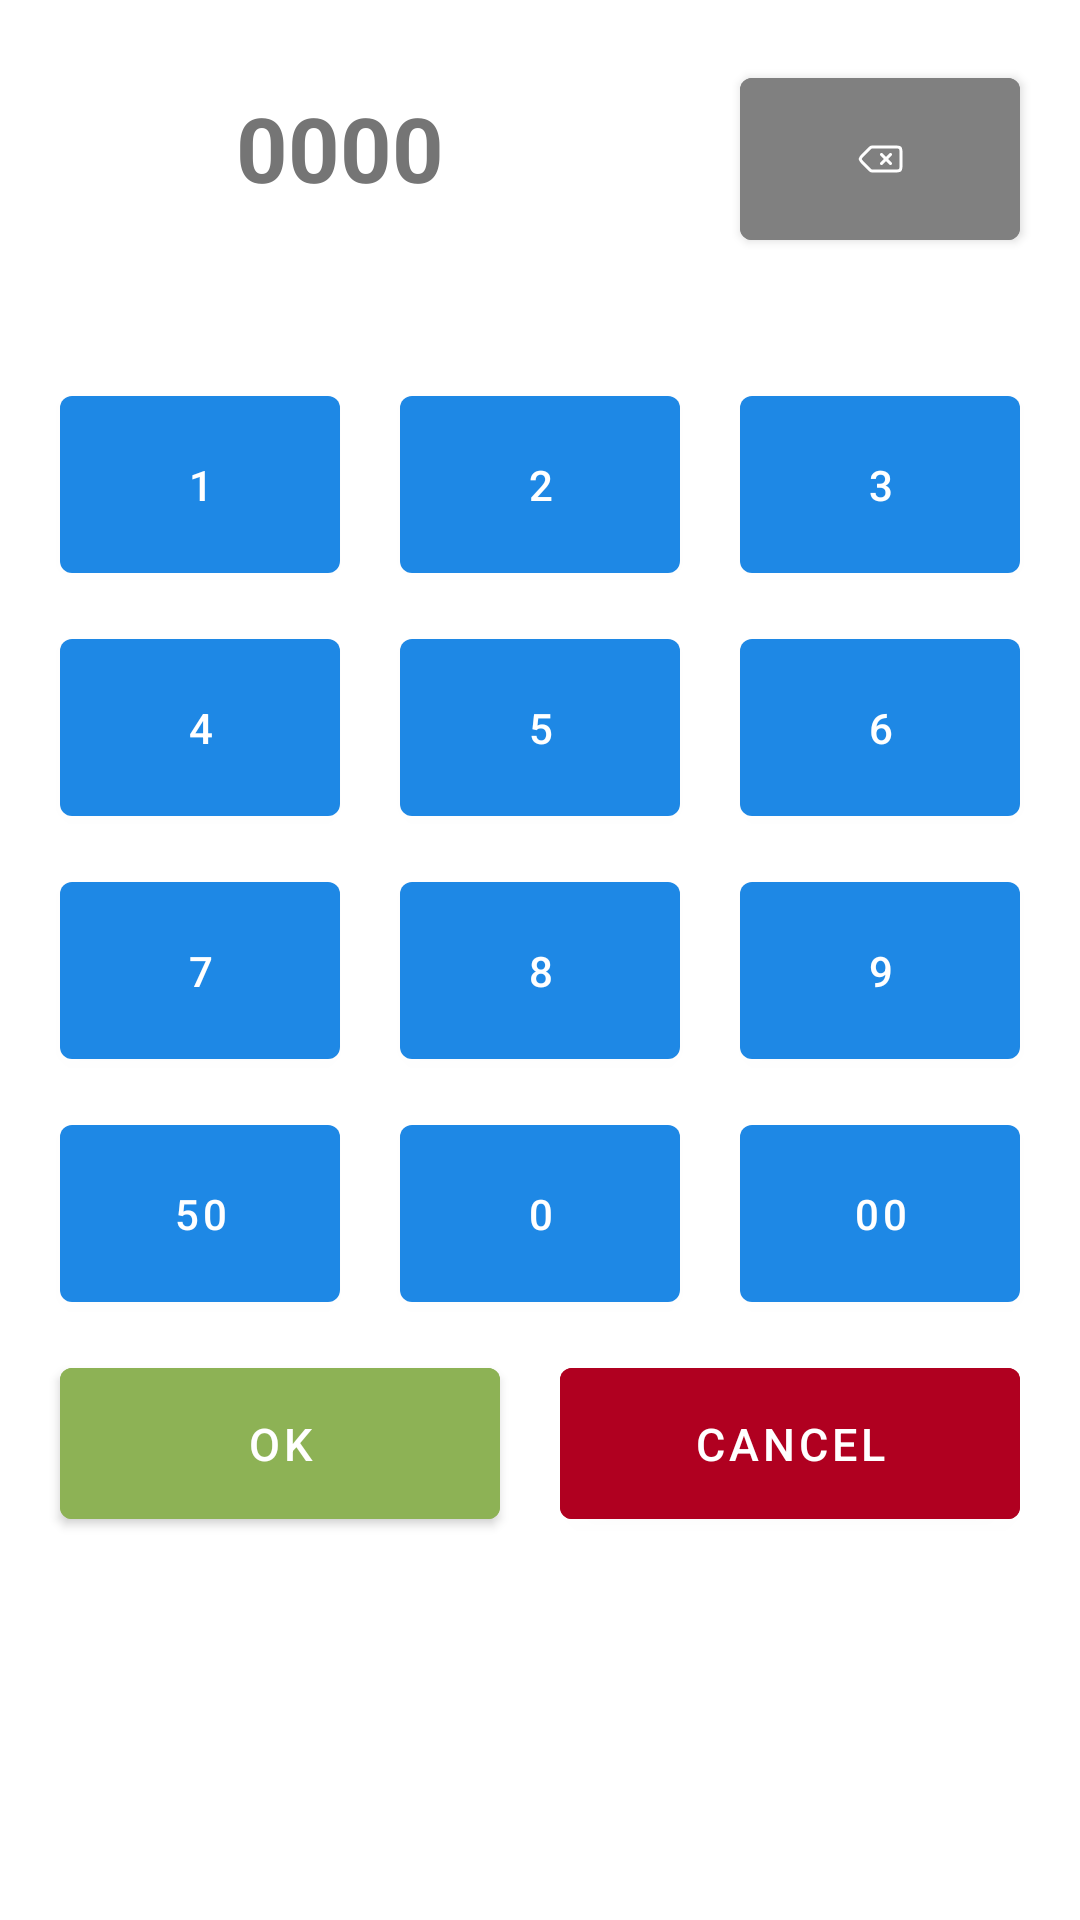

Icon bounding boxes for this 1080w x 1920h phone screenshot, format (x1, y1, x2, y2):
delete: (740, 78, 1020, 240)
